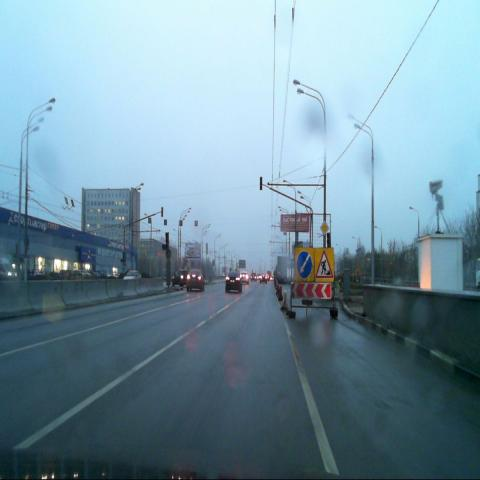4_2_2: (294, 247, 314, 282)
